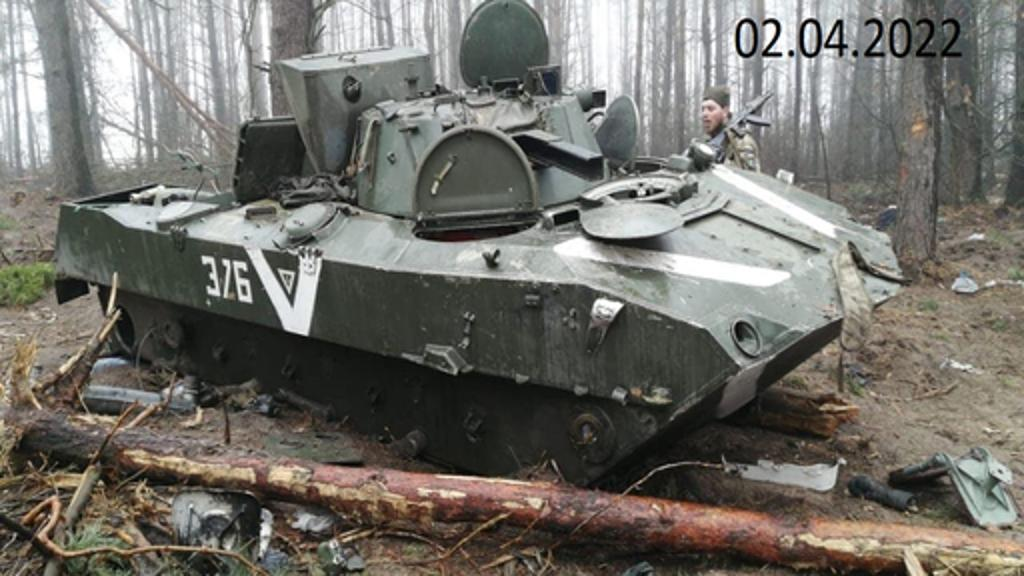APC-IFV: (54, 0, 904, 498)
